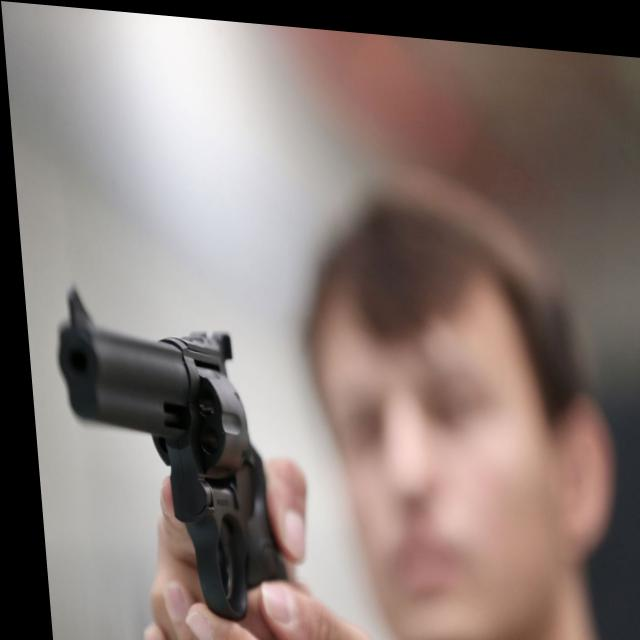handgun: (47, 286, 282, 610)
